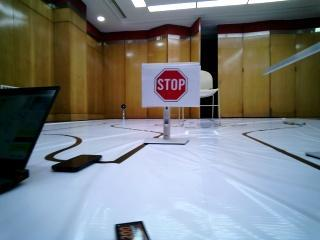stop: (143, 67, 199, 108)
